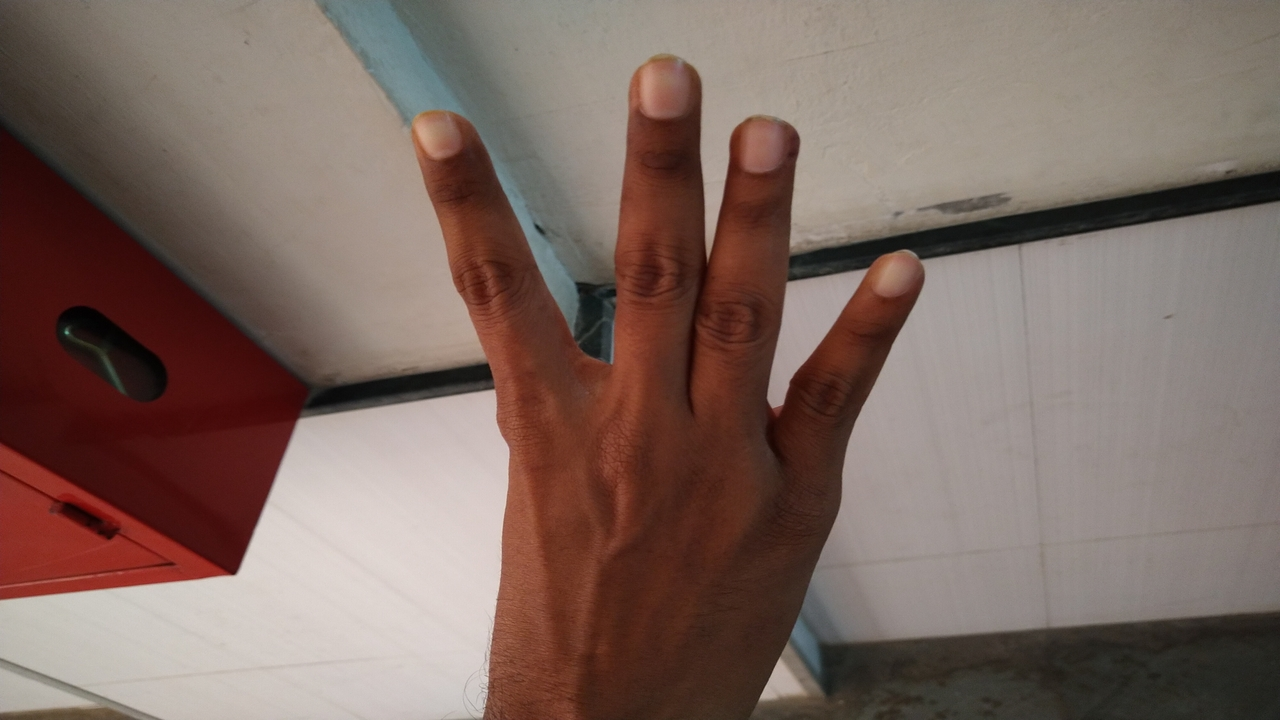fingertip: (626, 56, 704, 122), (862, 238, 936, 306), (396, 106, 474, 168), (724, 118, 804, 176)
